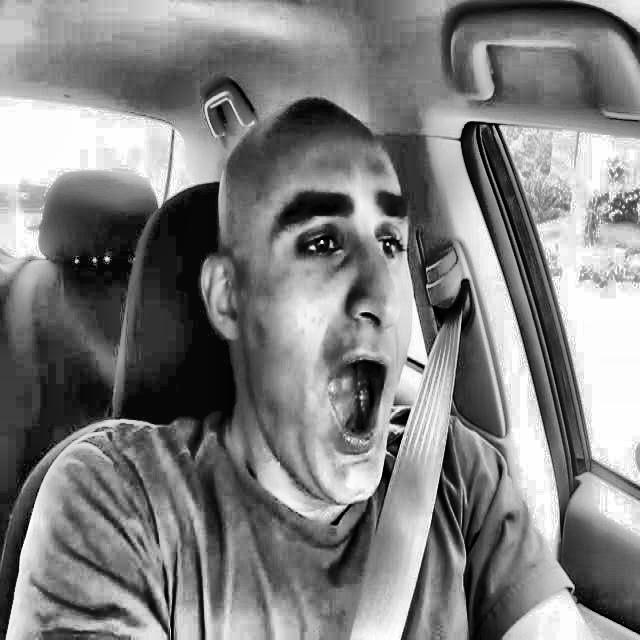open_eyes: (290, 207, 356, 272), (370, 217, 415, 269)
open_mouth: (314, 339, 399, 468)
